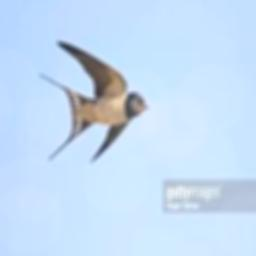Swallow: (39, 39, 148, 161)
